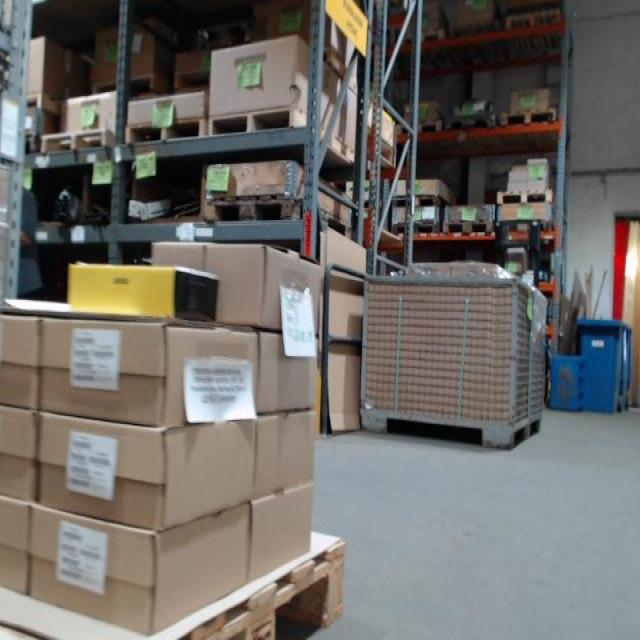pallet: (2, 518, 353, 637), (208, 103, 356, 165), (200, 190, 350, 239), (122, 110, 208, 152), (39, 121, 116, 159), (504, 106, 562, 134), (498, 184, 558, 208), (363, 126, 397, 166), (443, 116, 500, 139), (395, 115, 446, 140), (391, 193, 455, 211), (391, 221, 443, 242), (444, 218, 496, 237)
pallet_truck: (489, 208, 549, 410)
stillage: (354, 265, 550, 454)
